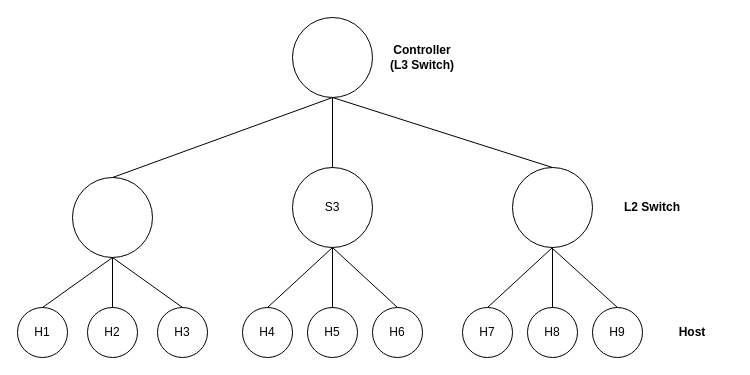
Some shapes in this 750 by 375 pixel diagram are drawn without their labels. Each missing label, with the centre of its shape:
"S1" goes at (332,57).
"S2" goes at (112,217).
"S4" goes at (552,207).
